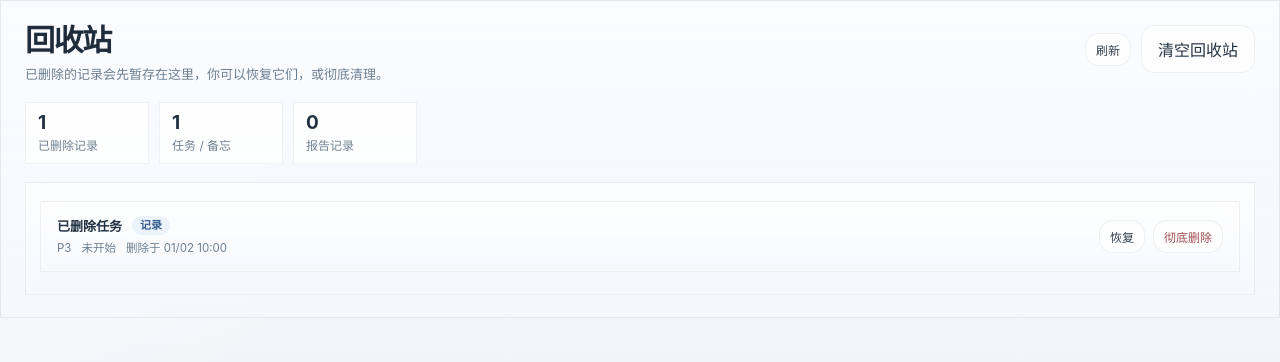
Test: TrashPage › destroys a trashed record directly
Check: the text "已删除任务" is shown, box [57,216,122,235]
Click the button "彻底删除" at x=1188, y=236, box [1153,220,1223,253]
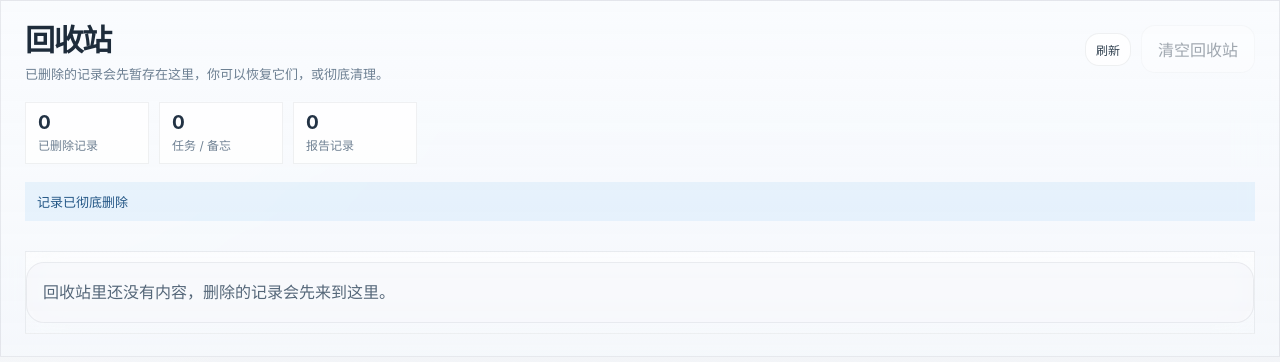
Check: the text "记录已彻底删除" is shown, box [25,182,1255,221]
